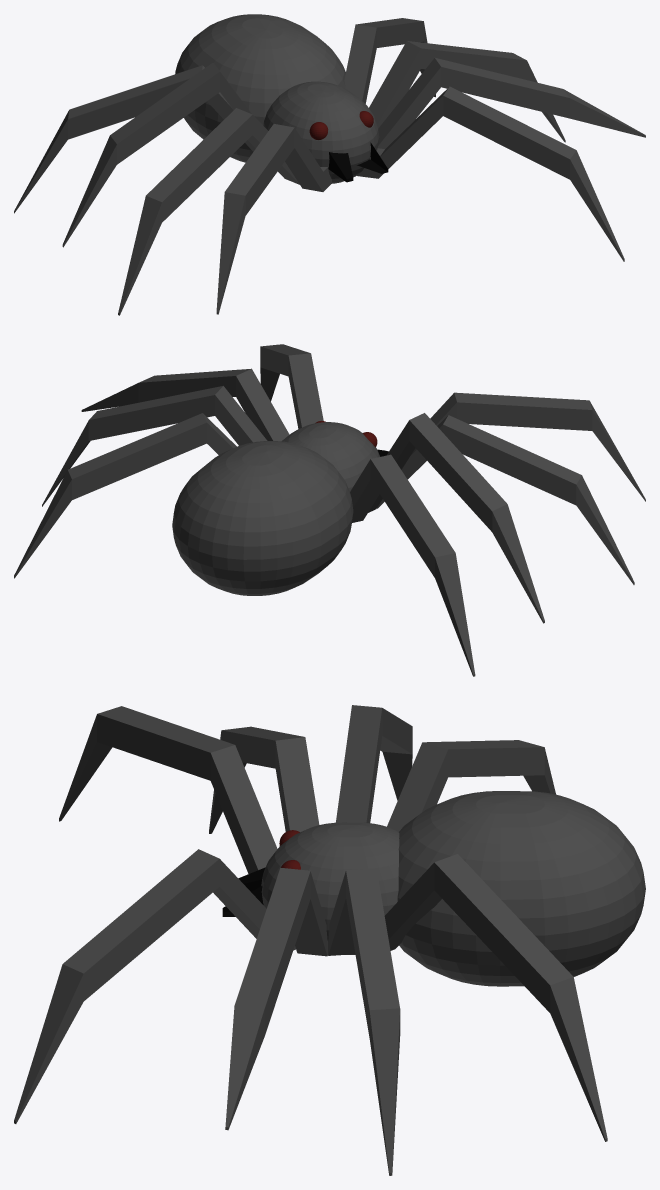
The model's file is Spider.obj.
3 views of the same model, one above another, from view 1: azimuth 30°, elevation 25°; view 2: azimuth 150°, elevation 25°; view 3: azimuth 270°, elevation 25° (orthographic). The views are drawn at different scales.
Parts seen in each view (by area): view 1: Sphere.000; view 2: Sphere.000; view 3: Sphere.000.
Part boxes in pixels (<box>): Sphere.000: <box>14,14,645,315</box>; Sphere.000: <box>14,344,645,676</box>; Sphere.000: <box>14,705,645,1175</box>.
Size of the model in its own units: 5.08 by 1.54 by 3.81.
1 material, 1 textured.
